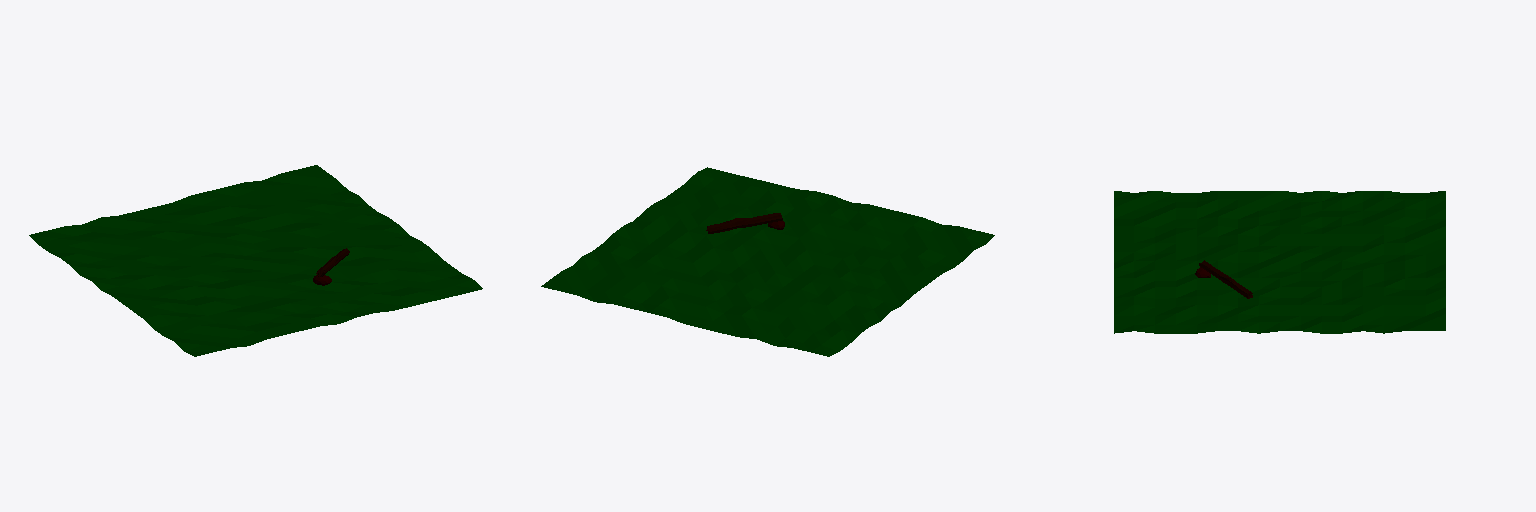
File: logstone.obj
3 views of the same model, side by side, from view 1: azimuth 30°, elevation 25°; view 2: azimuth 150°, elevation 25°; view 3: azimuth 270°, elevation 25° (orthographic).
Parts seen in each view (by area): view 1: Plane; view 2: Plane, Cylinder; view 3: Plane.
Boxes of the visible parts, x1=… form: Plane: x1=29, y1=165, x2=482, y2=356; Plane: x1=541, y1=167, x2=994, y2=356; Cylinder: x1=706, y1=213, x2=782, y2=233; Plane: x1=1114, y1=191, x2=1445, y2=333.
Bounding box in the file's own units: 29.62 × 1.65 × 29.62.